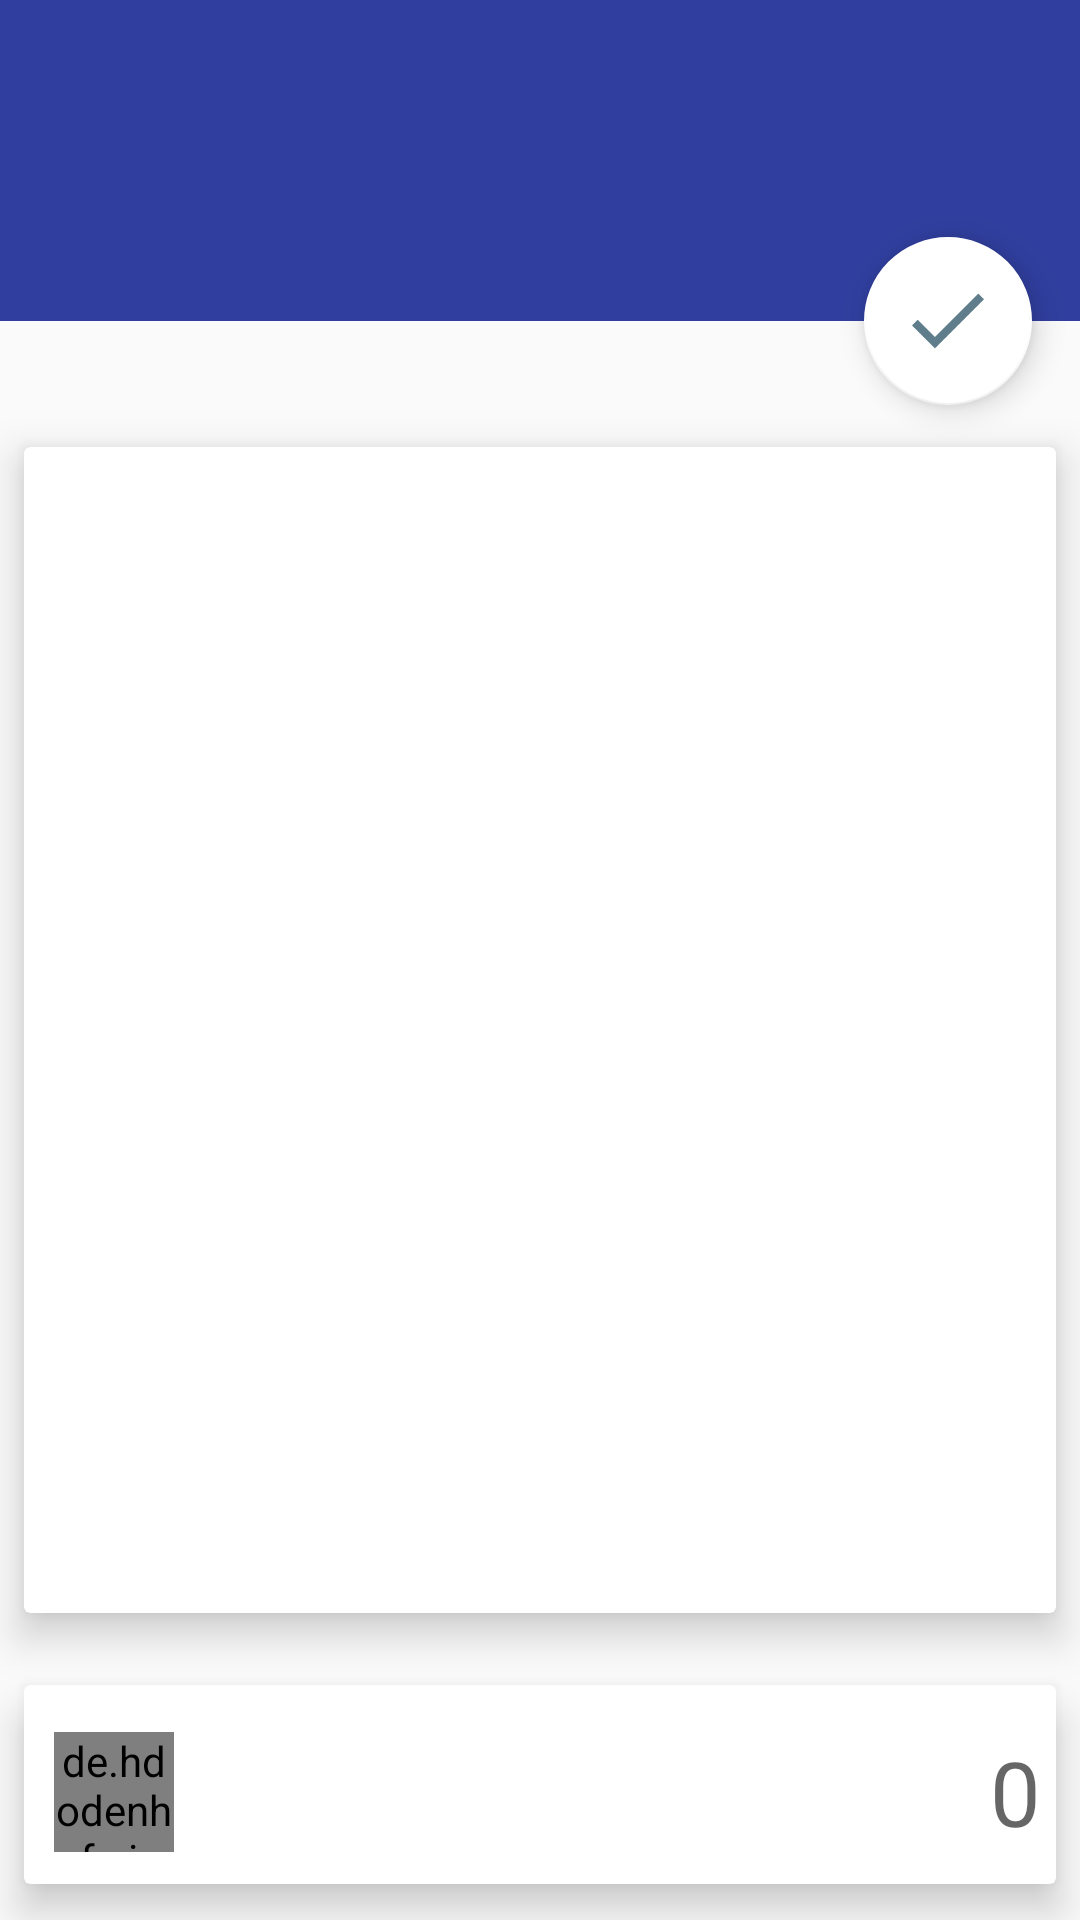

Screen size 1080px x 1920px. Icon name, then its center in pixels as point (x, y):
check: point (948, 321)
